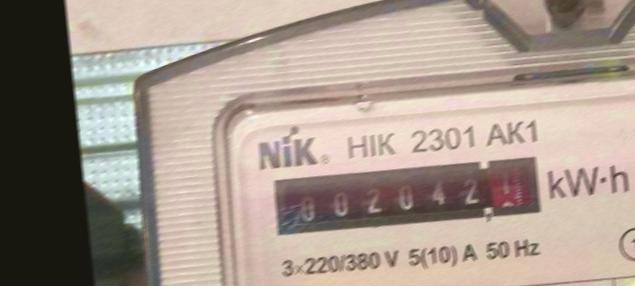0: (297, 193, 318, 225), (330, 188, 350, 221), (395, 182, 416, 213)
1: (496, 167, 513, 199)
2: (363, 186, 384, 217), (461, 176, 481, 207)
4: (428, 176, 449, 210)
screen: (268, 150, 548, 249)
